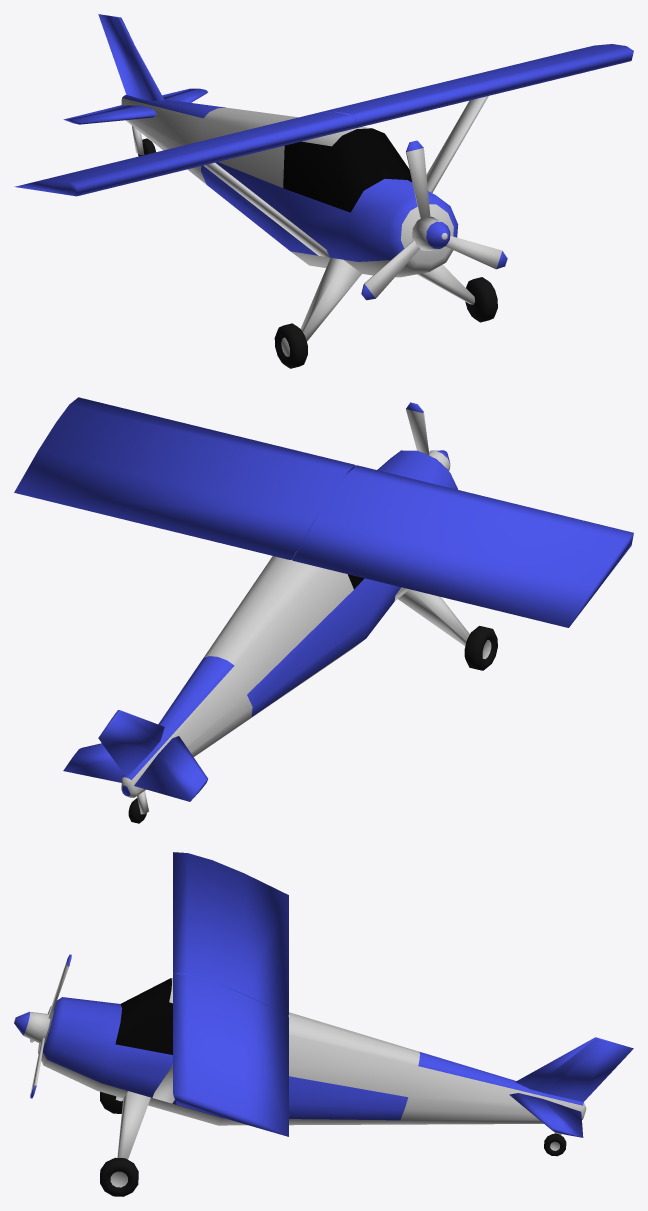
Rendered from Aeroplane.gltf.
3 renders of one model, top to bottom at view 1: azimuth 30°, elevation 25°; view 2: azimuth 150°, elevation 25°; view 3: azimuth 270°, elevation 25°, orthographic. The views are drawn at different scales.
Visible parts, largest first — view 1: PlaneBody; view 2: PlaneBody; view 3: PlaneBody.
Boxes of the visible parts, x1,y1,x2,y2 form: PlaneBody: [14, 14, 633, 368]; PlaneBody: [14, 397, 633, 823]; PlaneBody: [14, 852, 633, 1196].
Bounding box in the file's own units: 8.25 × 3.13 × 8.9.
